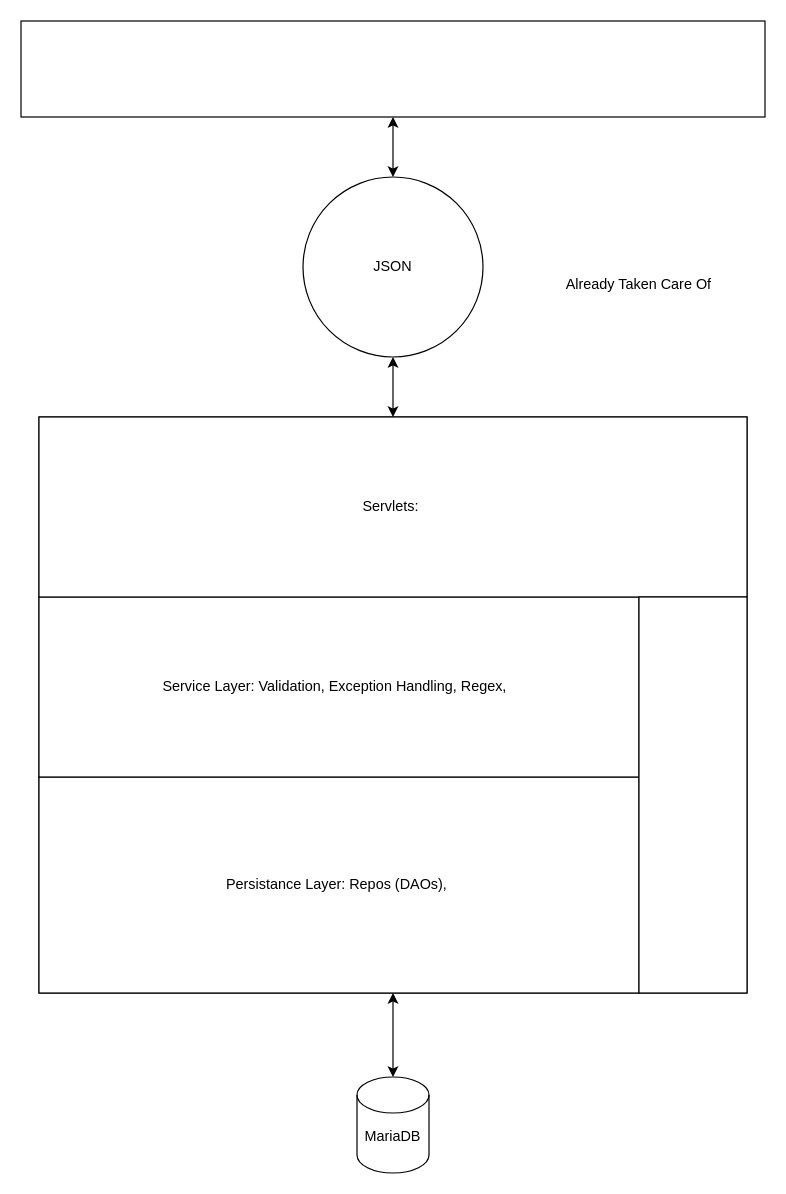
The diagram is 786 pixels wide and 1194 high, and some of its shapes have lost their labels. Here are the shapes that lost their labels. From the top down, the centre of each, then its label:
(x=392, y=68): User Interface: HTML/CSS (Login, Registration, and Menus)
(x=692, y=794): Models
